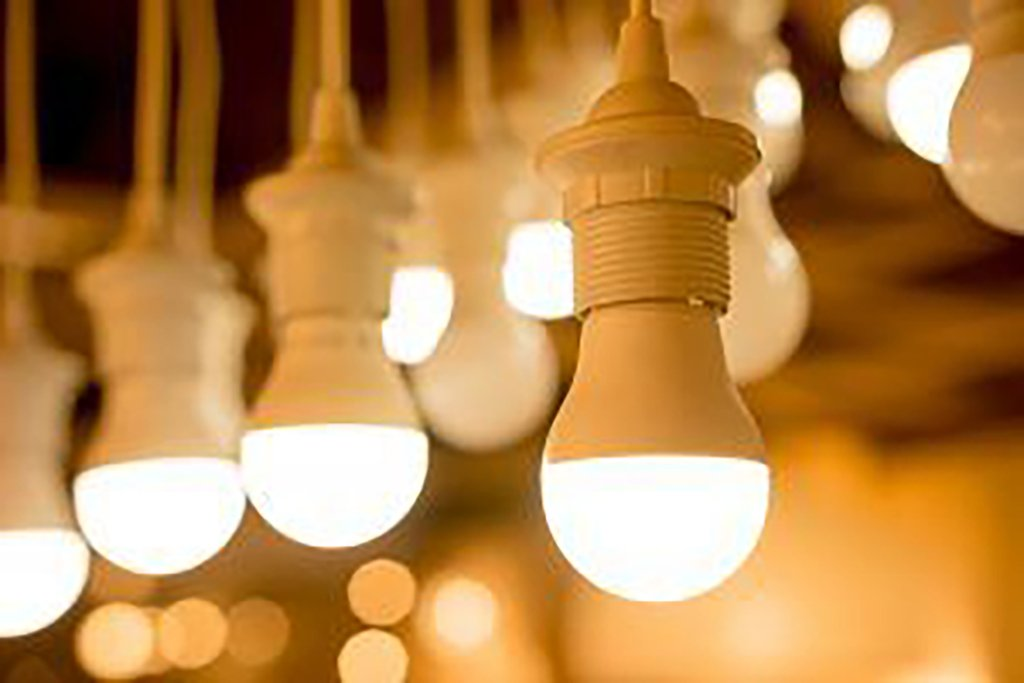Light_bulb: (527, 305, 790, 622), (228, 326, 440, 582), (71, 386, 272, 582)
